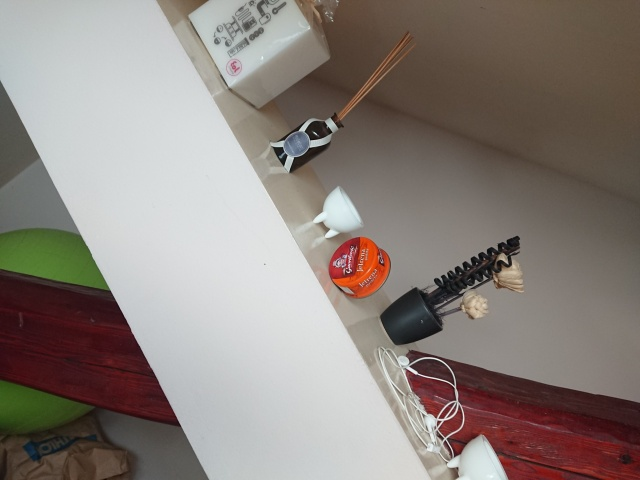Gavrilovic Pork Liver Pate 100g: (327, 235, 393, 300)
